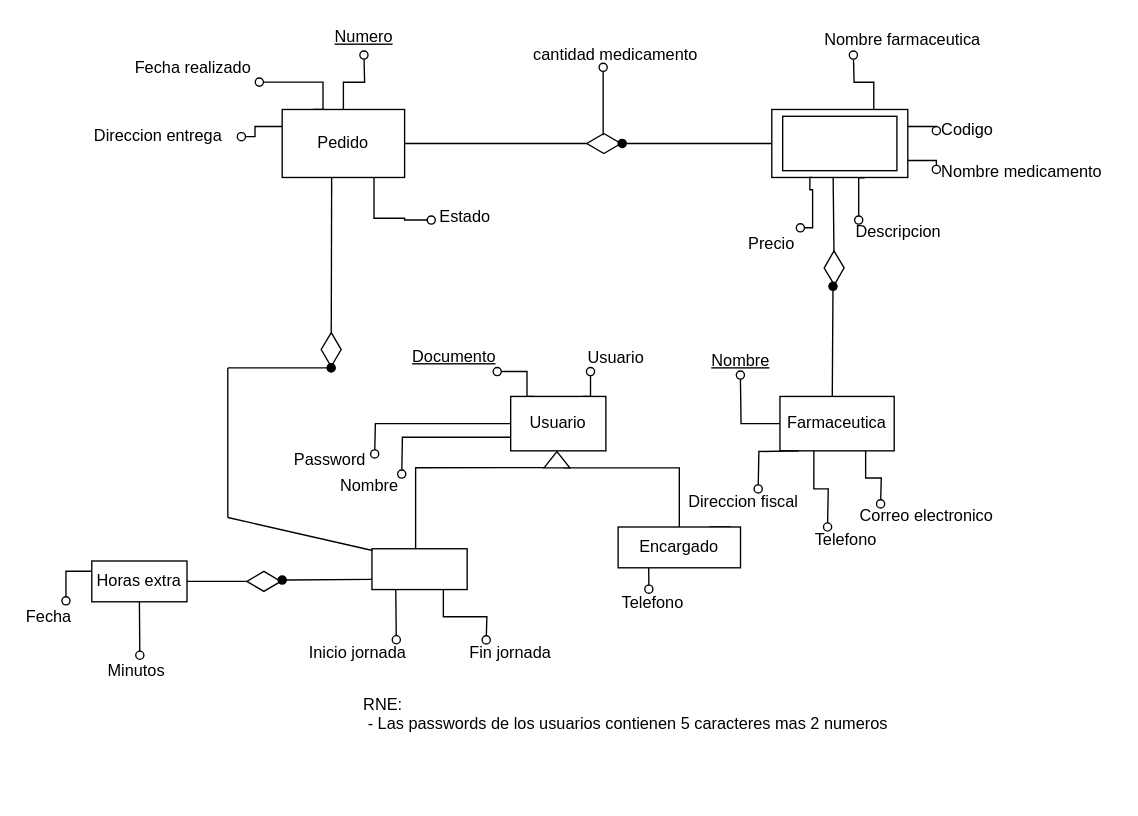
This 1138x816 diagram has some shape labels left out. Here are the shapes that lost their labels. From the top down, the box of each, then its label:
(781, 115, 897, 171): Medicamento
(371, 547, 467, 590): Empleado
